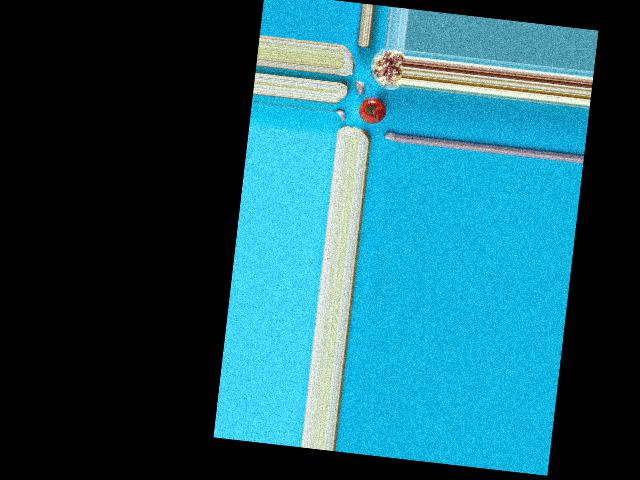tomato: (357, 97, 387, 125)
